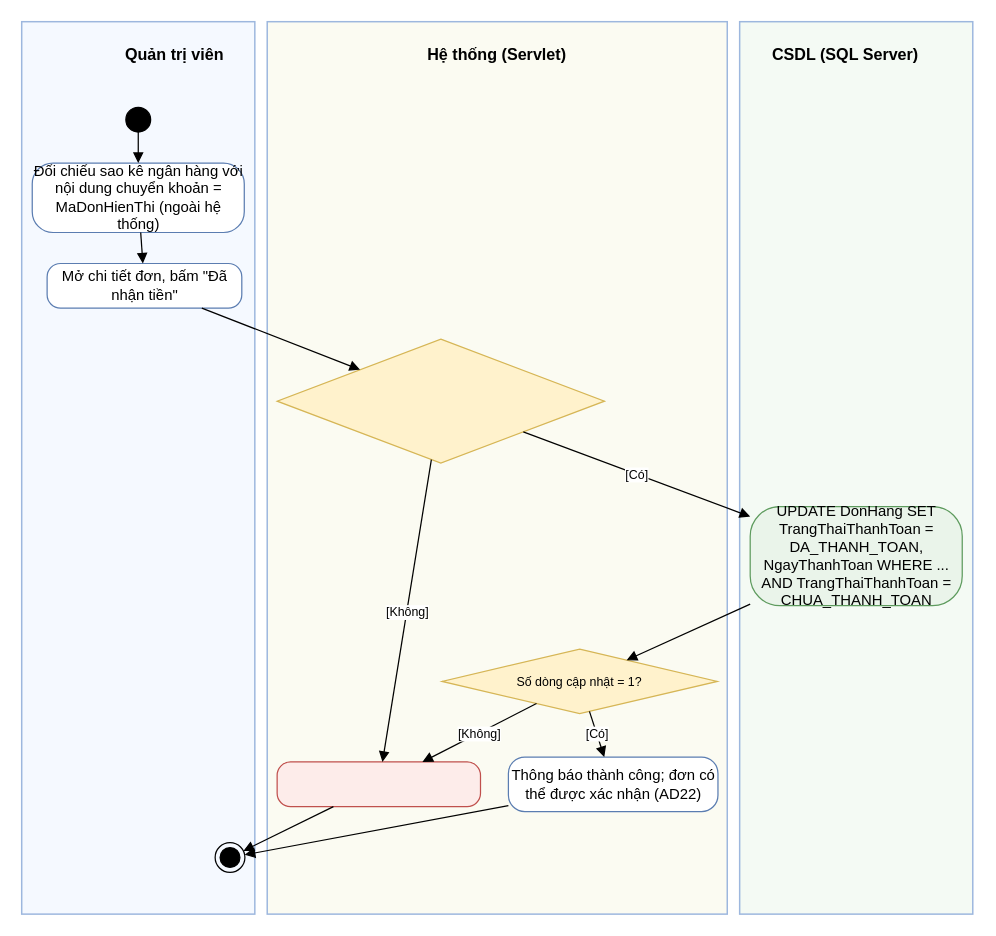
Some shapes in this 996 by 936 pixel diagram are drawn without their labels. The centre of each missing label's shape, as x and y in pixels:
Báo lỗi: đơn không ở trạng thái chờ thanh toán: point (378, 784)
CHUYEN_KHOAN, CHUA_THANH_TOAN và TrangThai = CHO_XAC_NHAN?: point (440, 400)
